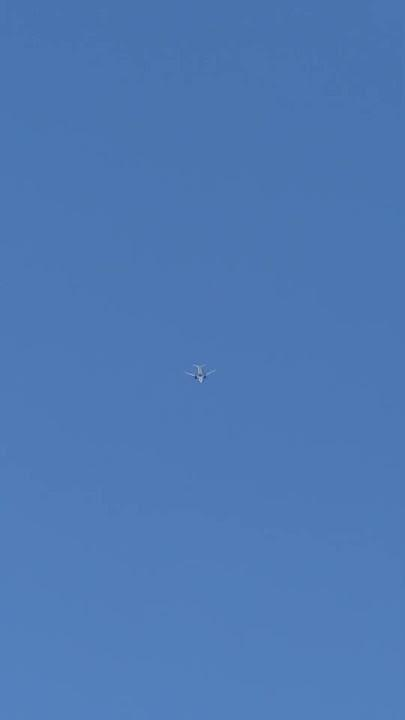Plane: (180, 352, 222, 394)
